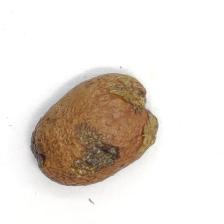NG: (72, 122, 124, 179), (101, 70, 147, 113), (132, 110, 158, 159), (30, 130, 50, 174)
